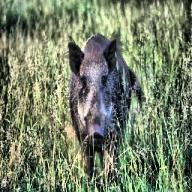boar: (67, 32, 146, 181)
